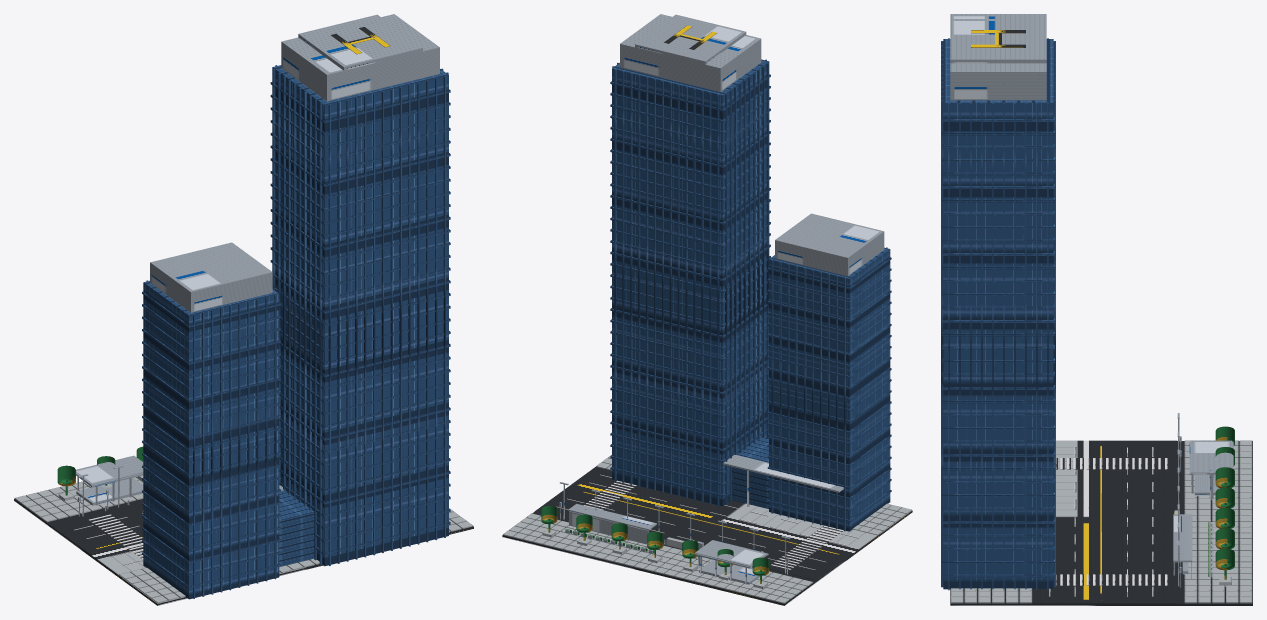
3 views of the same model, side by side, from view 1: azimuth 30°, elevation 25°; view 2: azimuth 150°, elevation 25°; view 3: azimuth 270°, elevation 25° (orthographic). The views are drawn at different scales.
Parts seen in each view (by area): view 1: RootNode; view 2: RootNode; view 3: RootNode.
Boxes of the visible parts, x1=… form: RootNode: x1=14, y1=14, x2=473, y2=605; RootNode: x1=502, y1=14, x2=912, y2=605; RootNode: x1=941, y1=14, x2=1252, y2=605.
Size of the model in its own units: 56 by 83.53 by 45.35.
4 materials, 4 textured.
